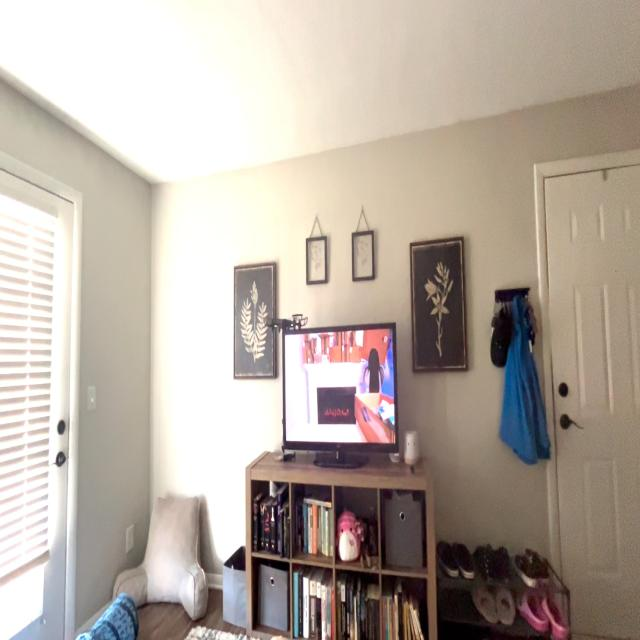drone: (256, 308, 316, 340)
